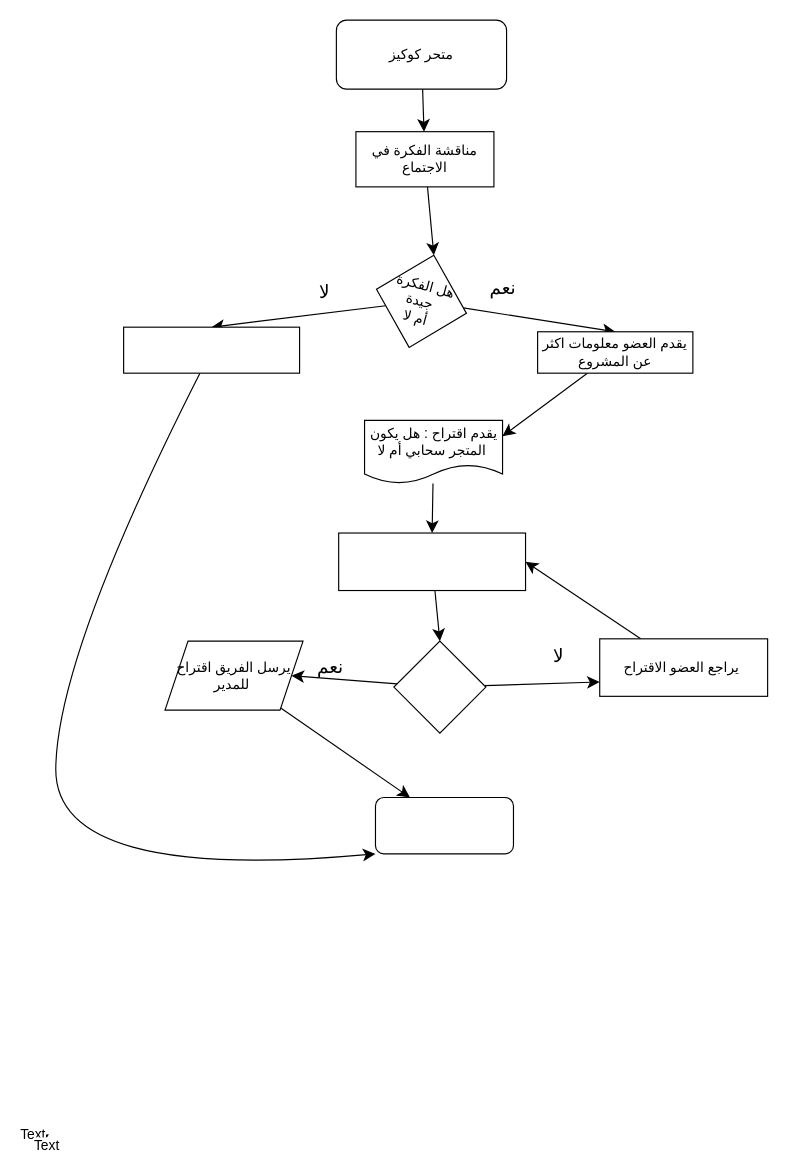
This 788x1174 diagram has some shape labels left out. Here are the shapes that lost their labels. From the top down, the centre of each, then its label:
the point at 211,349: رفض الفريق للفكرة
the point at 432,561: يراجع الفريق الفكرة والاقتراح
the point at 439,686: هل الاقتراح مقبول
the point at 443,825: نهاية التخطيط للمشروع
